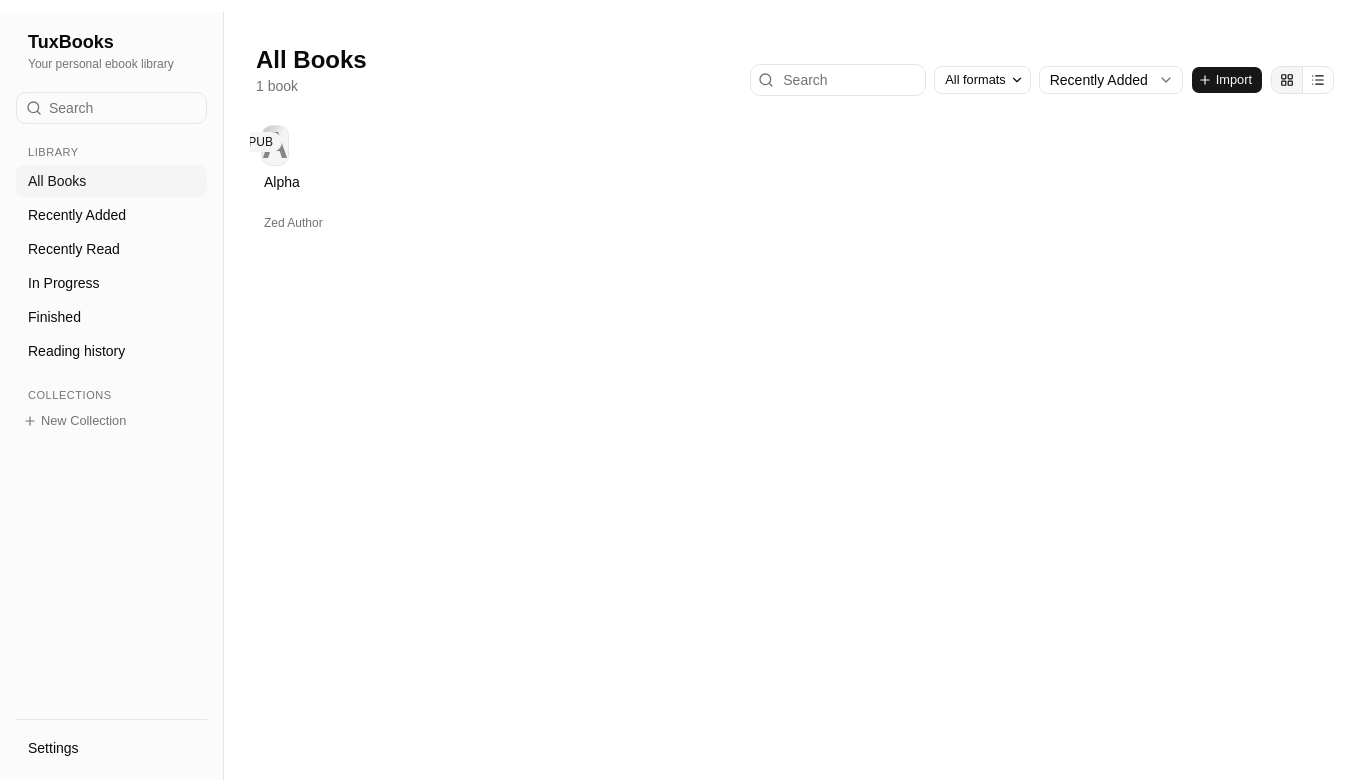
Test: LibraryView selection and opening › selects on single click and opens the detail on double click
Click the button with test id "book-card": [293, 180] box left=256, top=120, right=331, bottom=241
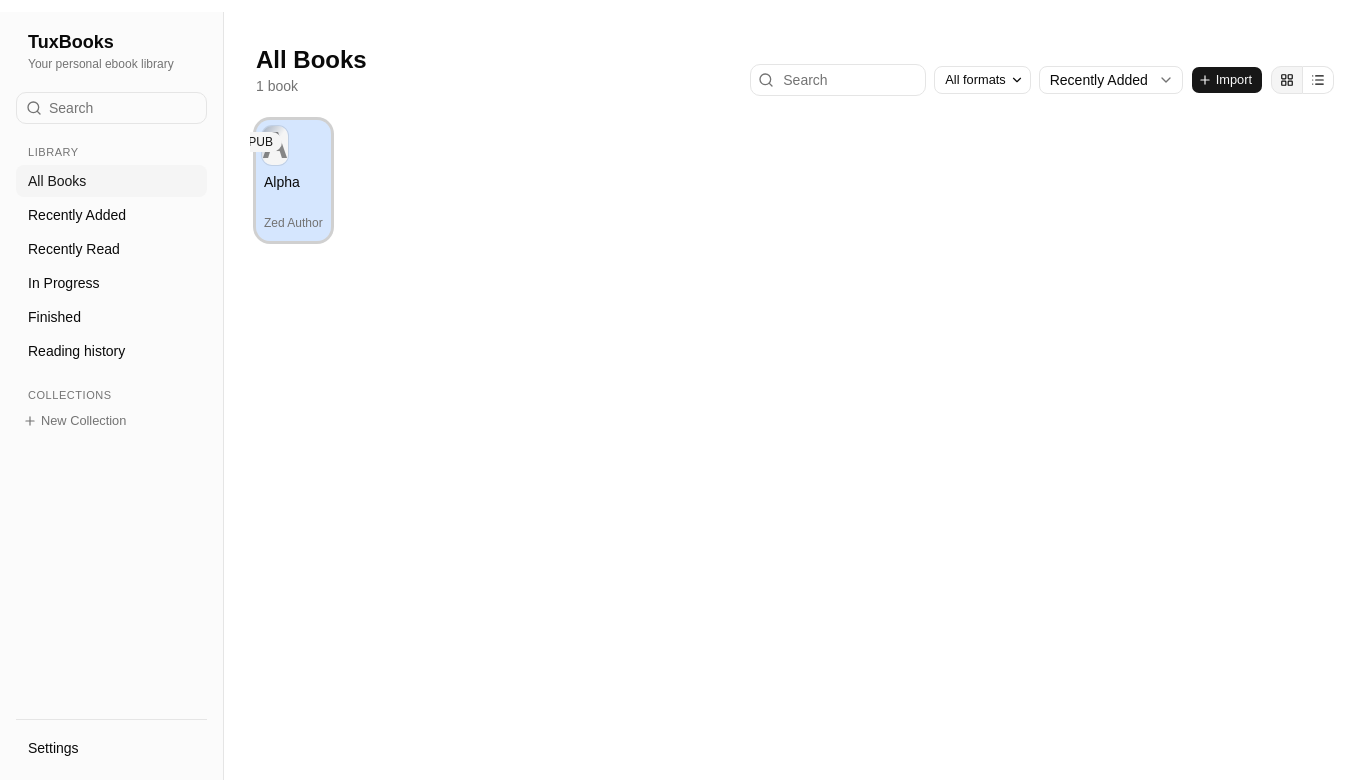
Expected: the button with test id "book-card" is pressed
Double-click the button with test id "book-card": [293, 180] box left=256, top=120, right=331, bottom=241
(page scrolled)
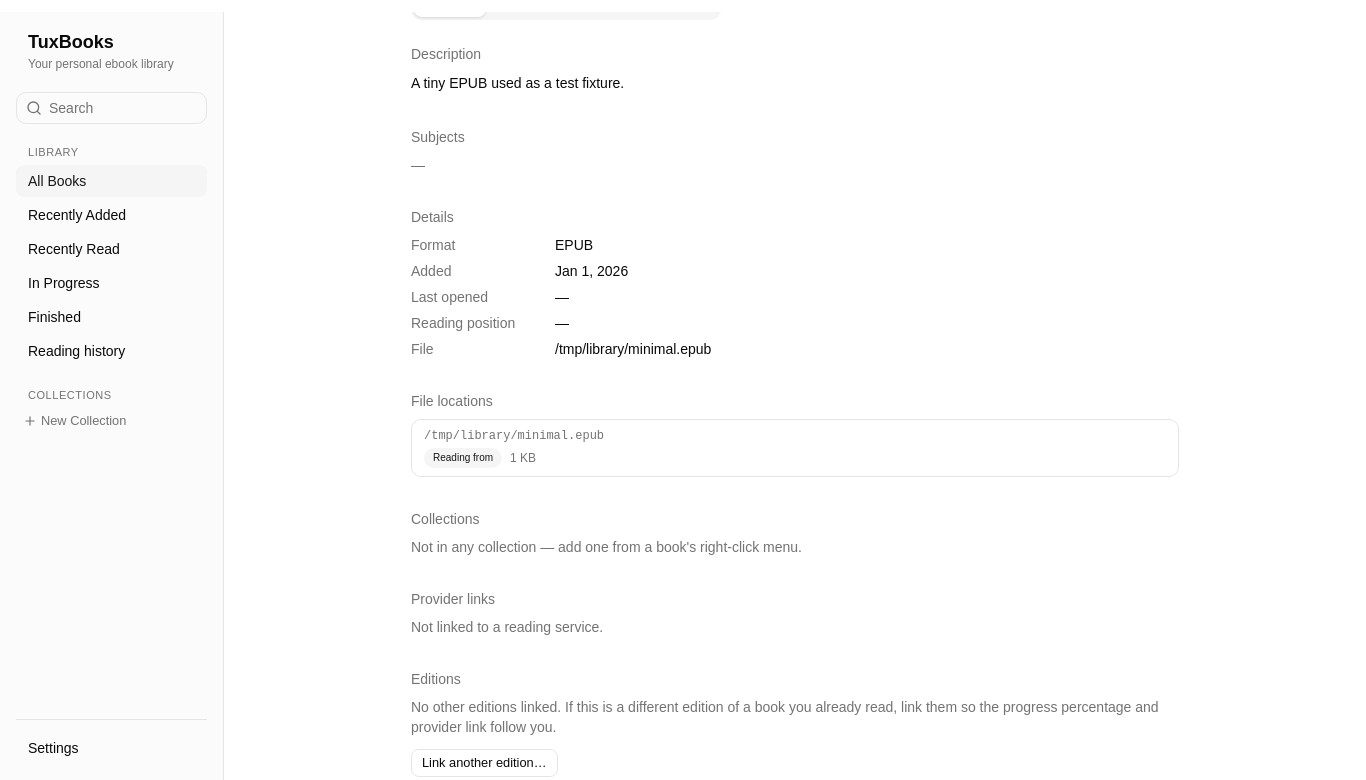
Expected: the element with test id "book-detail" is shown, left=411, top=12, right=1179, bottom=779
